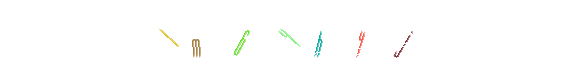4: (229, 0, 309, 80), (269, 0, 349, 80)
6: (212, 0, 292, 80)
H: (252, 0, 332, 80)
J: (279, 0, 359, 80)
L: (129, 0, 209, 80)
M: (200, 0, 280, 80)
